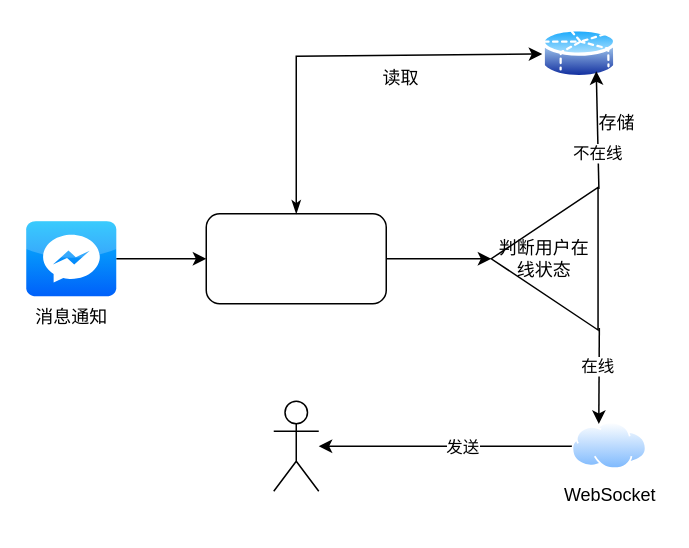
The diagram is 689 pixels wide and 548 high, and some of its shapes have lost their labels. Here are the shapes that lost their labels. From the top down, the box of each, then its label:
(205, 212, 386, 304): 检索数据库 查看当前用户是否有未发送信息
(272, 400, 319, 491): Actor
